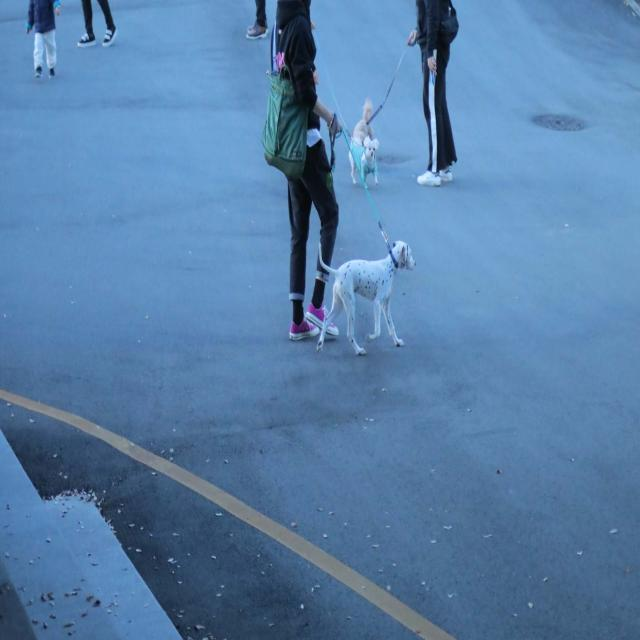Leashed_Dog: (300, 98, 417, 356), (348, 16, 433, 190)
